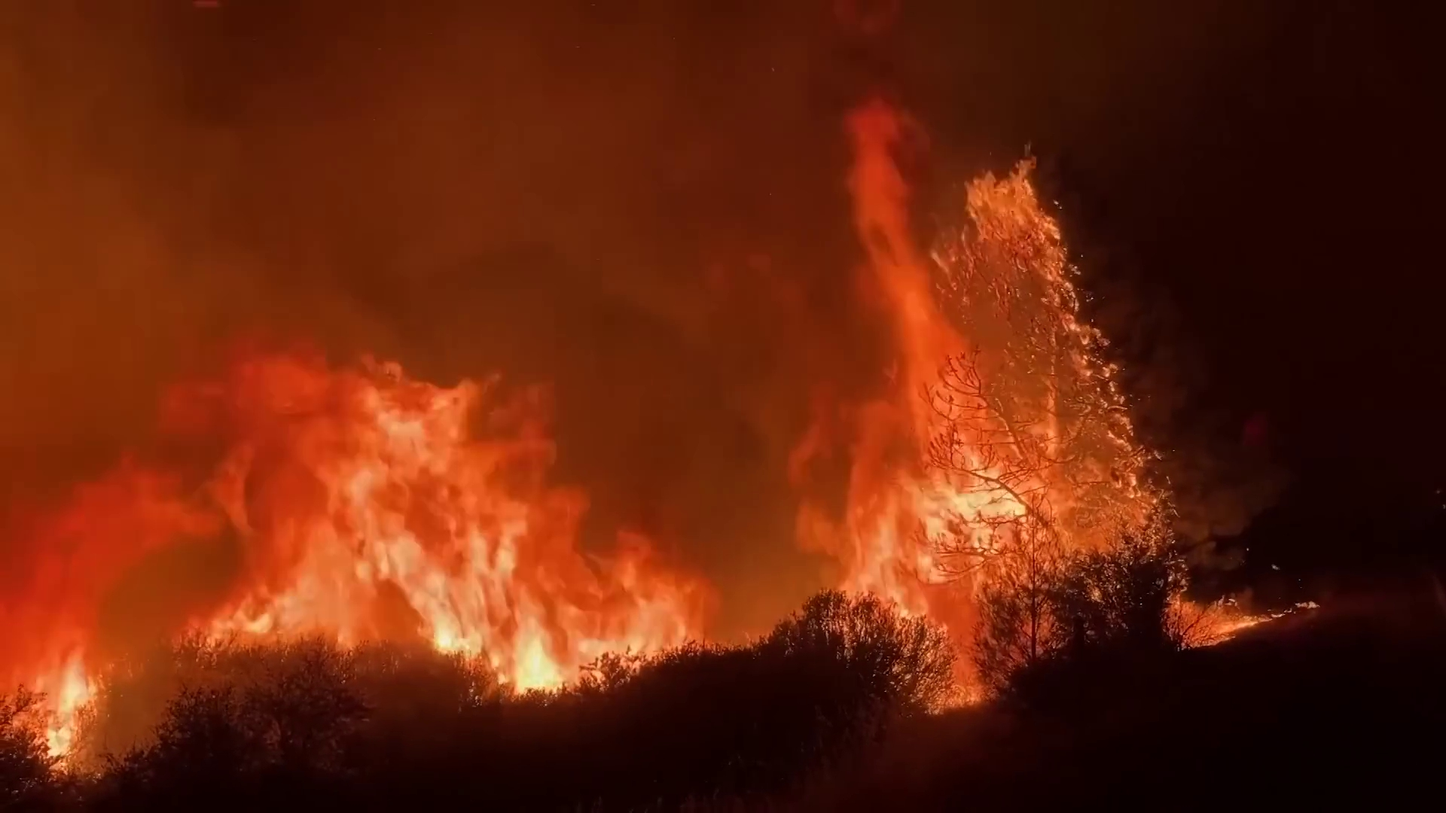forest_fire: (0, 353, 710, 755), (789, 102, 1167, 632), (1167, 598, 1258, 643)
